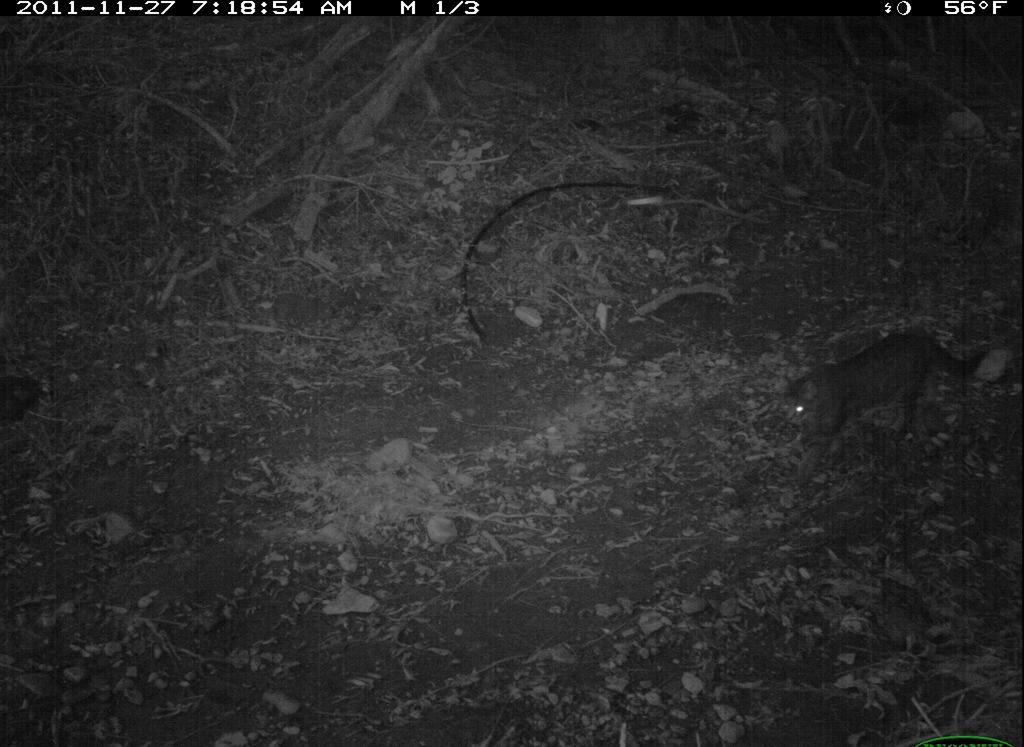cat: (772, 326, 993, 484)
